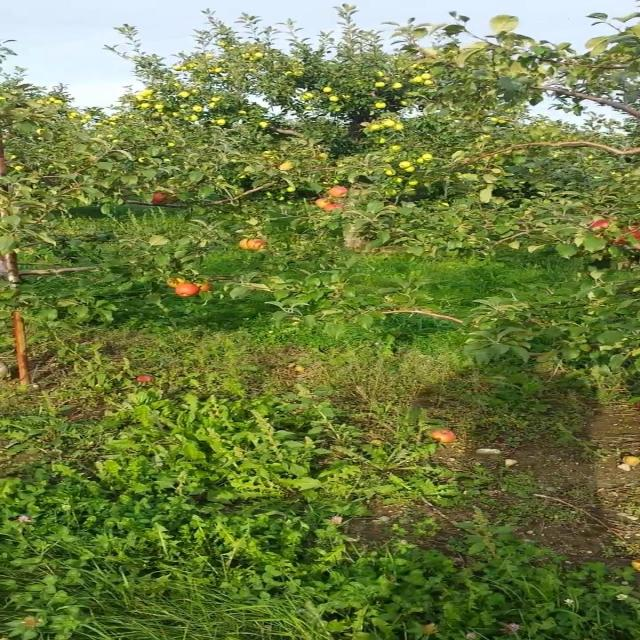apple: (177, 284, 199, 296), (248, 240, 268, 251), (333, 188, 348, 199), (596, 220, 612, 228), (426, 624, 437, 635), (170, 280, 185, 288), (198, 284, 213, 292), (319, 200, 332, 207), (28, 620, 41, 627), (611, 240, 628, 245), (241, 240, 249, 250), (156, 196, 165, 204), (333, 204, 345, 210)
